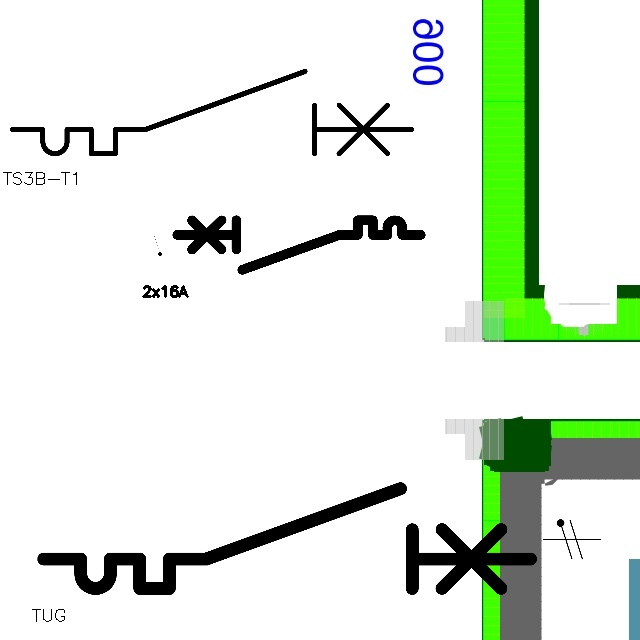interruptor_termomagnetico: (31, 476, 543, 601), (2, 61, 422, 164), (171, 214, 427, 276)
